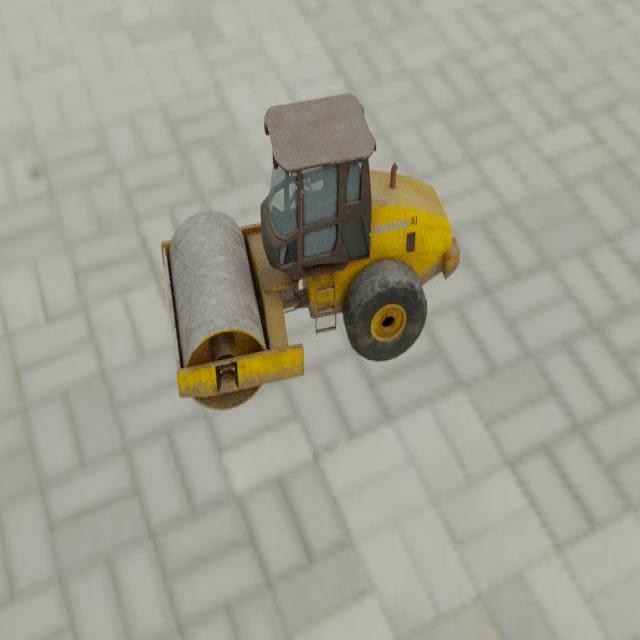Roller: (160, 92, 461, 411)
